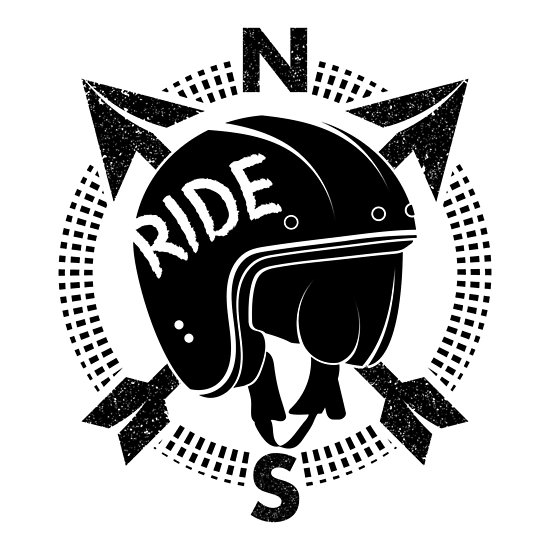with_helmet: (134, 113, 407, 386)
